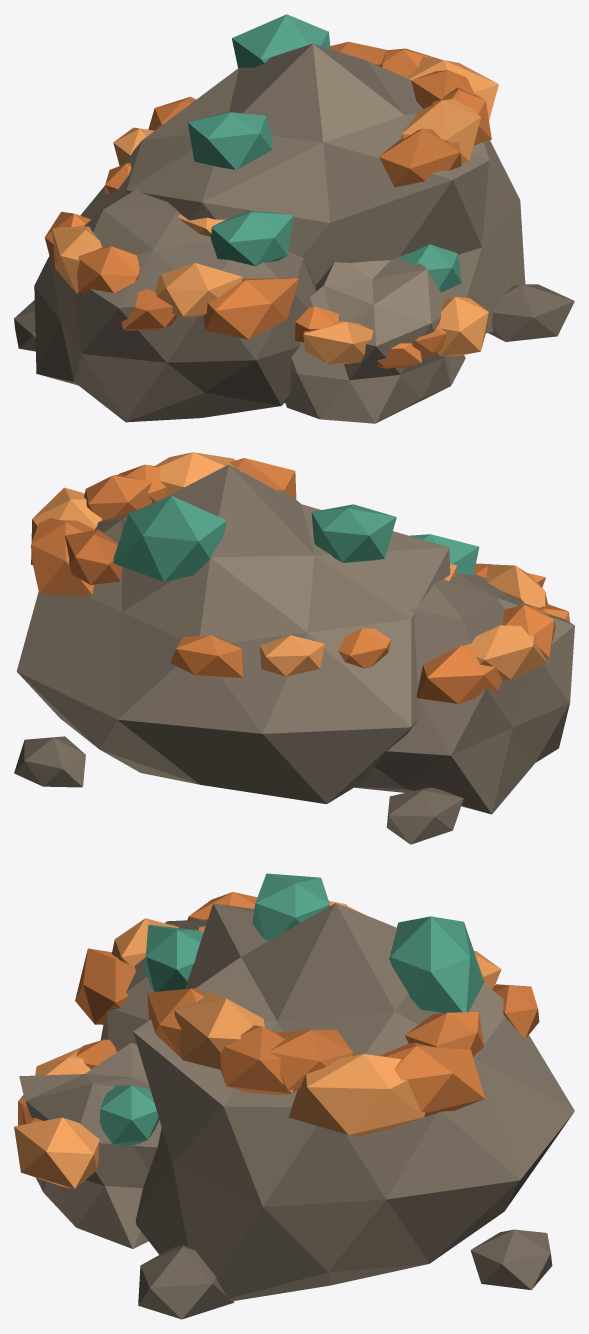
The model's file is copper_vein.glb.
The picture shows the model from 3 angles, top to bottom: view 1: azimuth 30°, elevation 25°; view 2: azimuth 150°, elevation 25°; view 3: azimuth 270°, elevation 25°; orthographic projection. The views are drawn at different scales.
Parts seen in each view (by area): view 1: copper_vein; view 2: copper_vein; view 3: copper_vein.
Boxes of the visible parts, left/top/right/bottom form: copper_vein: left=14, top=14, right=574, bottom=423; copper_vein: left=14, top=452, right=574, bottom=844; copper_vein: left=14, top=873, right=574, bottom=1319.
Size of the model in its own units: 2.45 by 1.38 by 2.2.
Materials: 1 (1 with a texture image).
